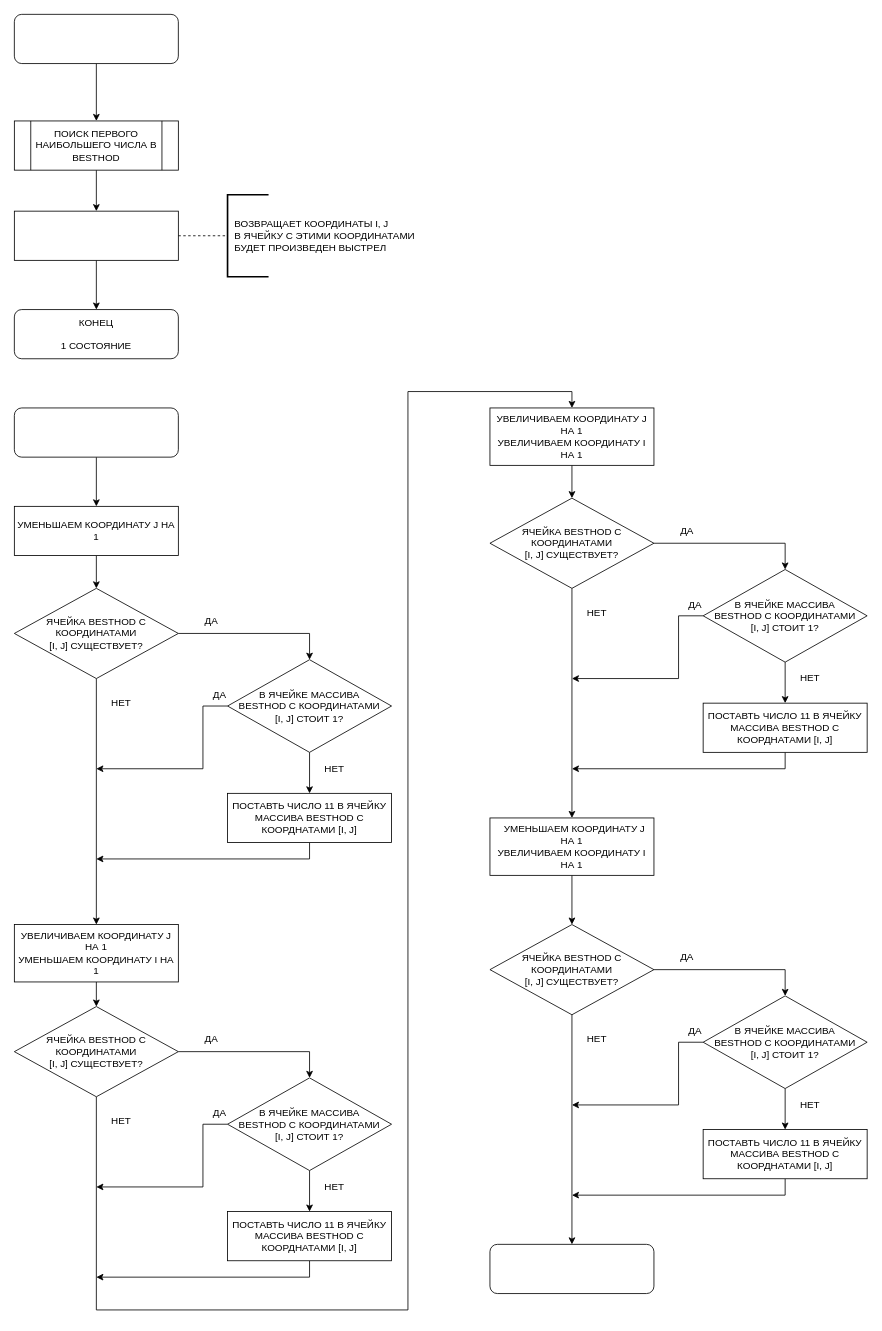
The diagram is 882 pixels wide and 1331 high, and some of its shapes have lost their labels. Here are the shapes that lost their labels. From the top down, the box of each, then its label:
(14, 14, 178, 64): 1 СОСТОЯНИЕ НАЧАЛО
(14, 210, 178, 260): ВЕРНУТЬ КООРДИНАТЫ ЯЧЕЙКИ С НАИБОЛЬШИМ ЧИСЛОМ
(14, 407, 178, 457): 2 СОСТОЯНИЕ НАЧАЛО
(489, 1244, 654, 1294): КОНЕЦ 2 СОСТОЯНИЕ
